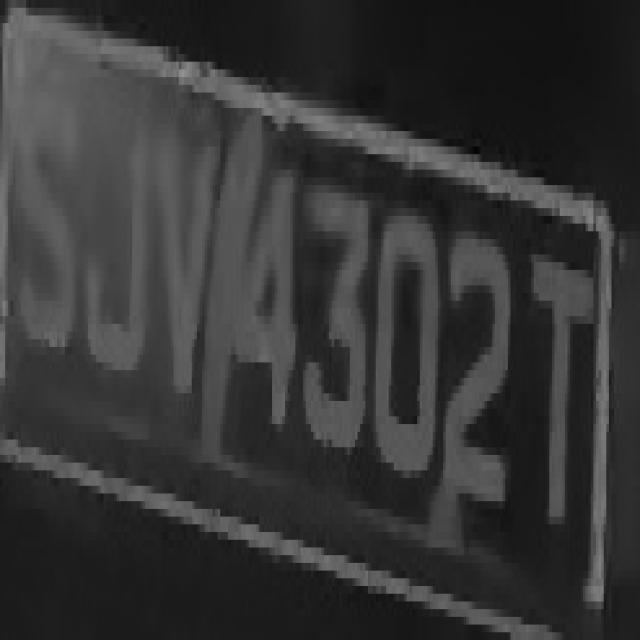0: (371, 185, 443, 478)
2: (436, 208, 510, 524)
3: (296, 147, 366, 478)
4: (226, 92, 300, 455)
J: (80, 77, 153, 393)
S: (18, 46, 80, 362)
T: (521, 208, 601, 548)
V: (150, 100, 223, 409)
